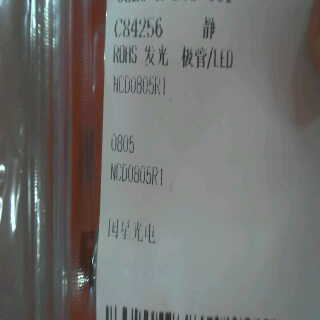LED: (136, 41, 239, 74)
